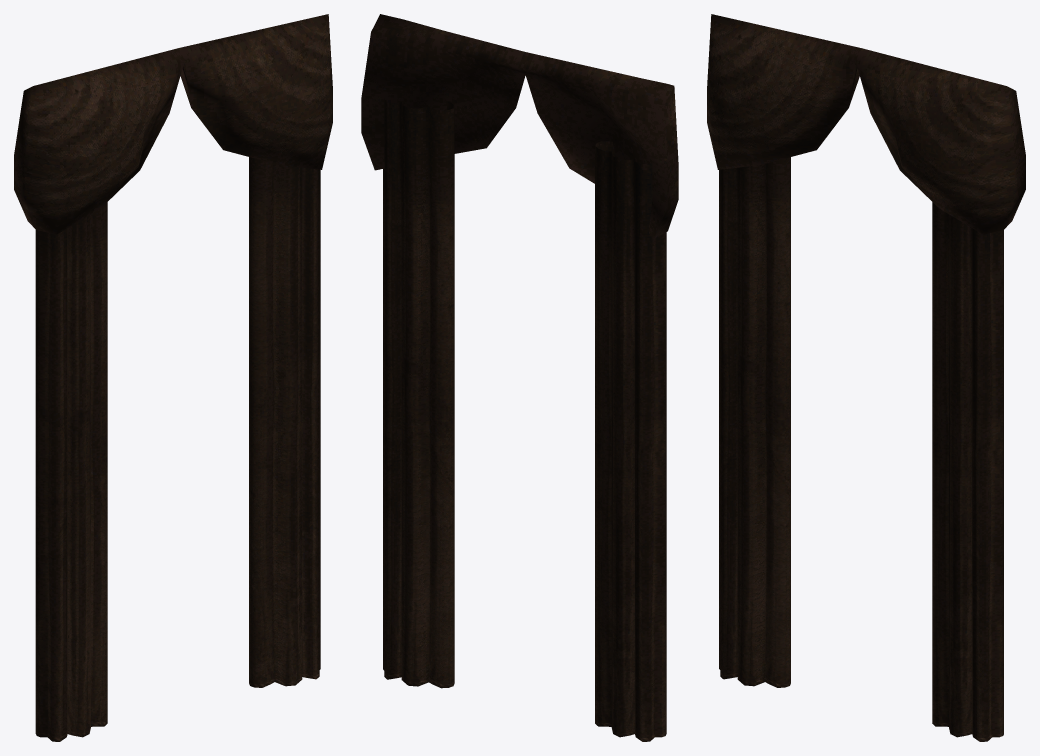
File: curtain06_long.dae
3 renders of one model, left to right at view 1: azimuth 30°, elevation 25°; view 2: azimuth 150°, elevation 25°; view 3: azimuth 330°, elevation 25°, orthographic.
Parts seen in each view (by area): view 1: polySurface191; view 2: polySurface191; view 3: polySurface191.
Boxes of the visible parts, bbox=[...] form: polySurface191: bbox=[14, 14, 332, 741]; polySurface191: bbox=[361, 14, 678, 741]; polySurface191: bbox=[707, 14, 1025, 741].
Size of what is drawn, in the model's own units: 2.5 by 5.08 by 0.4673.
